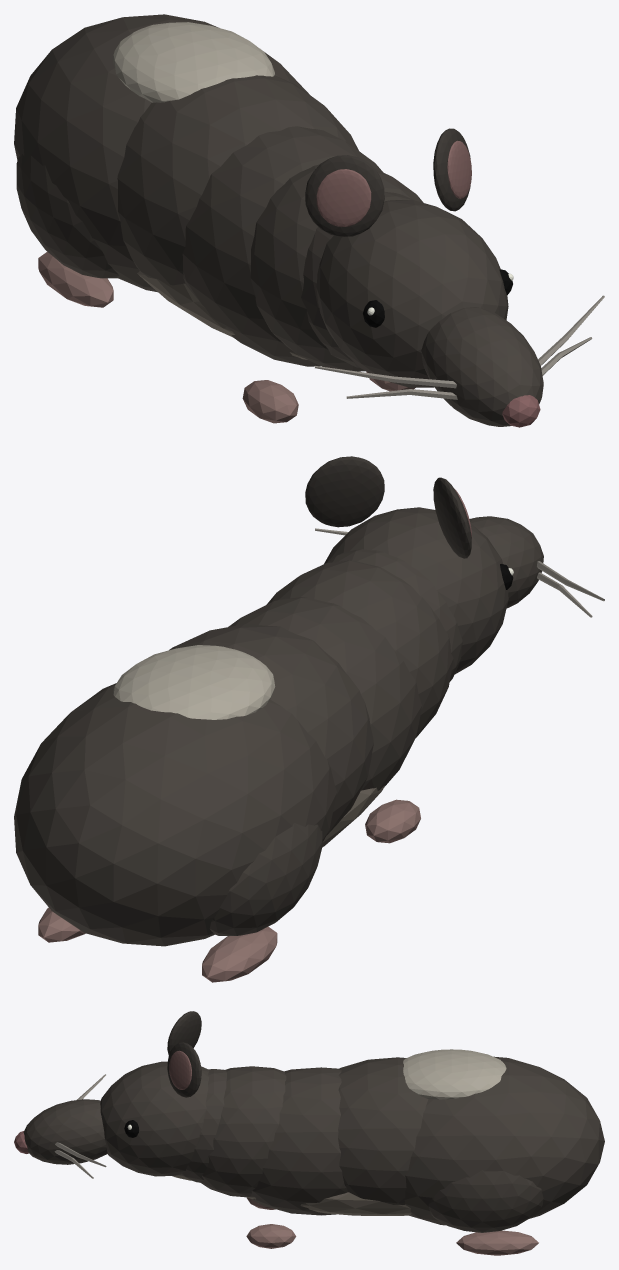
File: DotBody.obj
3 renders of one model, top to bottom at view 1: azimuth 30°, elevation 25°; view 2: azimuth 150°, elevation 25°; view 3: azimuth 270°, elevation 25°, orthographic. The views are drawn at different scales.
Parts seen in each view (by area): view 1: Fur, Spot, Paws, Ear, EarInner, Whiskers, Belly, Nose, Eyes; view 2: Fur, Spot, Ear, Paws, Whiskers, Belly; view 3: Fur, Spot, Paws, Ear, Belly, EarInner, Whiskers.
Part boxes in pixels (box(x1,y1,x2,y2)): Fur: box(14, 14, 543, 426); Spot: box(113, 22, 274, 102); Paws: box(38, 251, 415, 423); Ear: box(305, 128, 470, 237); EarInner: box(316, 140, 471, 226); Whiskers: box(315, 295, 604, 399); Belly: box(137, 271, 307, 359); Nose: box(502, 395, 540, 427); Eyes: box(363, 269, 512, 327); Fur: box(14, 507, 543, 946); Spot: box(113, 645, 275, 719); Ear: box(305, 456, 471, 558); Paws: box(38, 799, 420, 982); Whiskers: box(315, 528, 604, 617); Belly: box(322, 785, 385, 847); Fur: box(23, 1056, 604, 1232); Spot: box(403, 1049, 506, 1099); Paws: box(246, 1197, 538, 1255); Ear: box(167, 1011, 201, 1097); Belly: box(172, 1174, 411, 1215); EarInner: box(169, 1050, 191, 1089); Whiskers: box(54, 1074, 106, 1178).
Bounding box in the file's own units: 0.5221 × 0.528 × 1.42.
